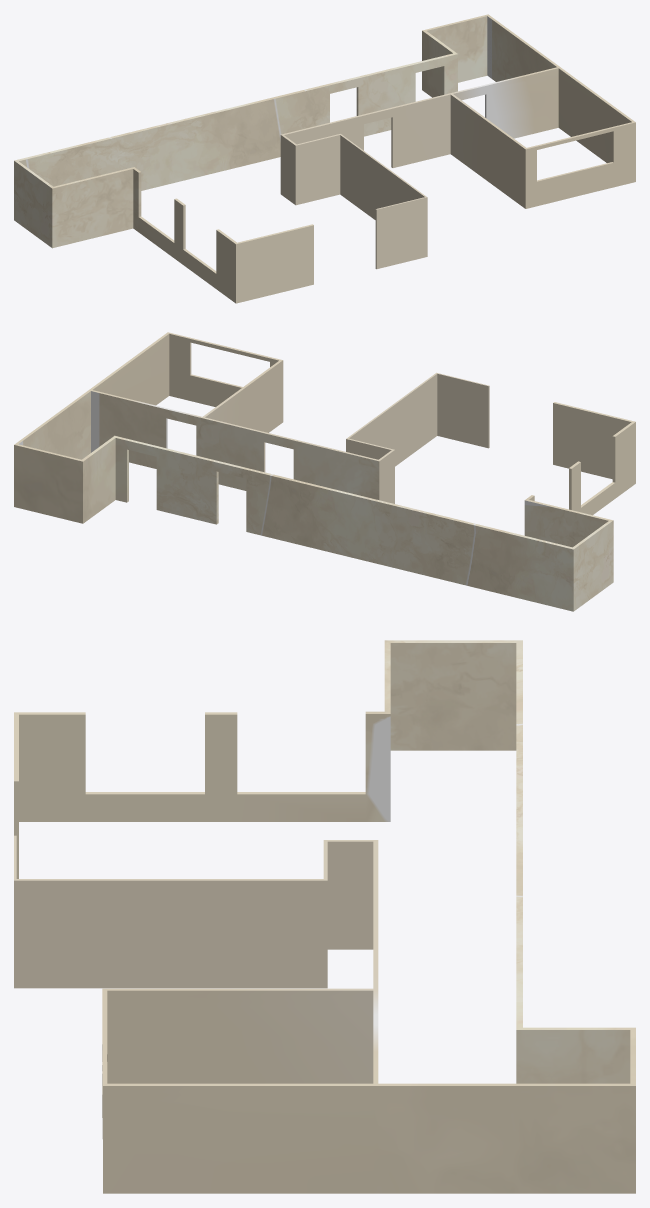
Rendered from Paredes_Escenario.fbx.
3 renders of one model, top to bottom at view 1: azimuth 30°, elevation 25°; view 2: azimuth 150°, elevation 25°; view 3: azimuth 270°, elevation 25°, orthographic. The views are drawn at different scales.
Visible parts, largest first — view 1: Cube.033; view 2: Cube.033; view 3: Cube.033.
Boxes of the visible parts, left/top/right/bottom form: Cube.033: left=14, top=14, right=635, bottom=303; Cube.033: left=14, top=332, right=635, bottom=611; Cube.033: left=14, top=640, right=635, bottom=1193.
Size of the model in its own units: 2734 by 308 by 1613.
